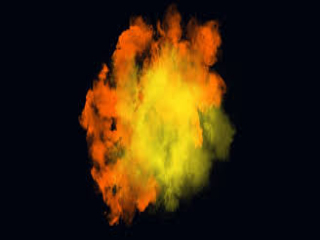fire: (67, 16, 168, 223)
smoke: (133, 87, 241, 202)
